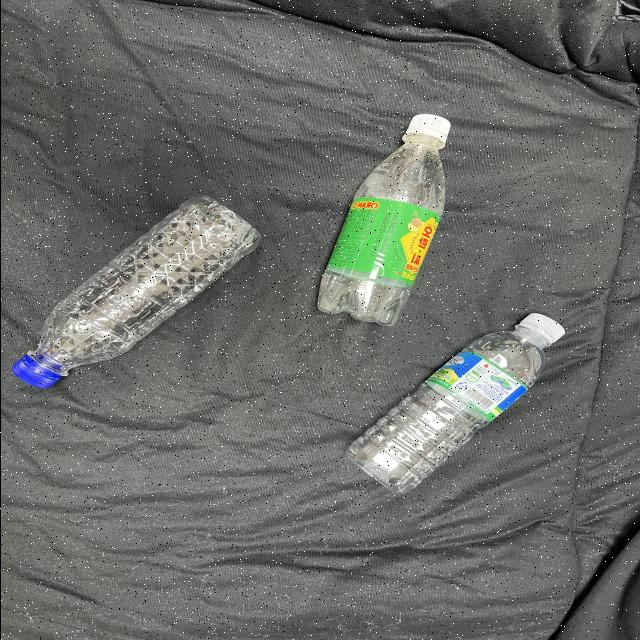plastic: (1, 177, 275, 404), (327, 296, 583, 510), (302, 99, 476, 337)
